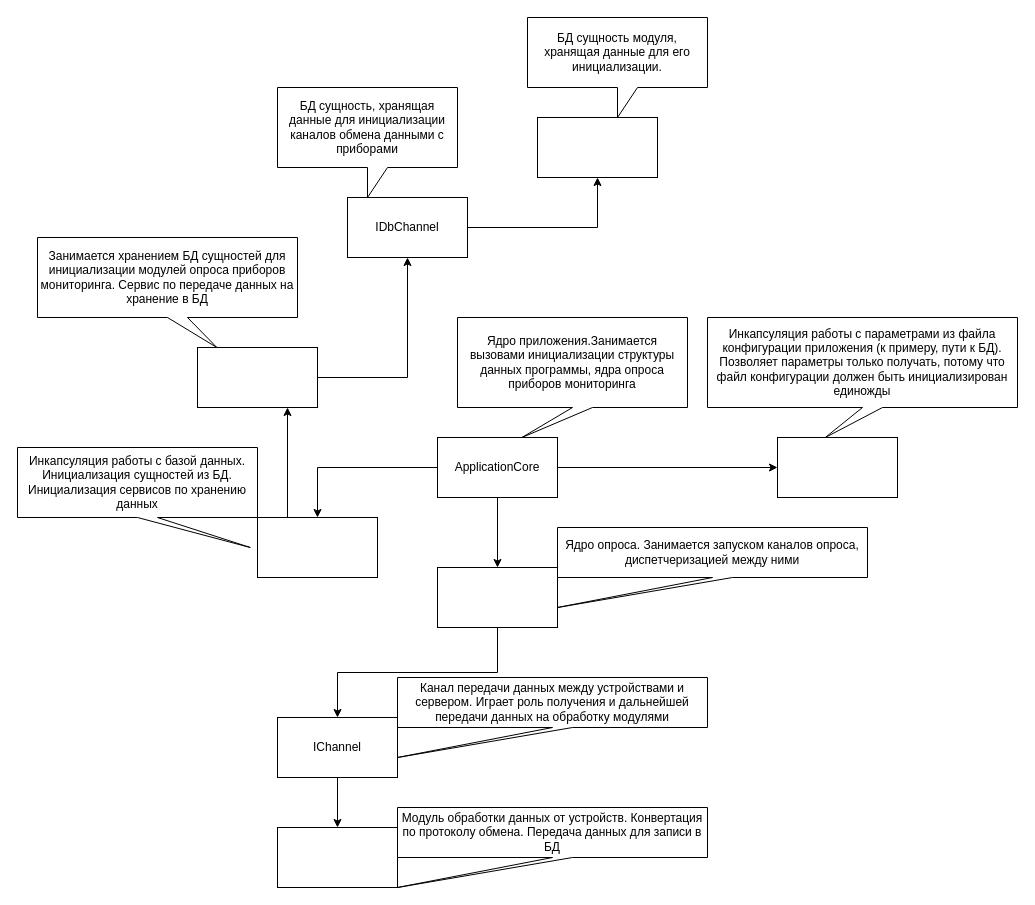
Image size: 1035x905. Some labels were removed from this diagram. Here are the shapes that lost their labels. From the top down, the centre of each, then its label:
At point 597,147: "IDbModule".
At point 257,377: "IDbService".
At point 837,467: "AppConfig".
At point 317,547: "IDb".
At point 497,597: "PollCore".
At point 337,857: "IModule".
